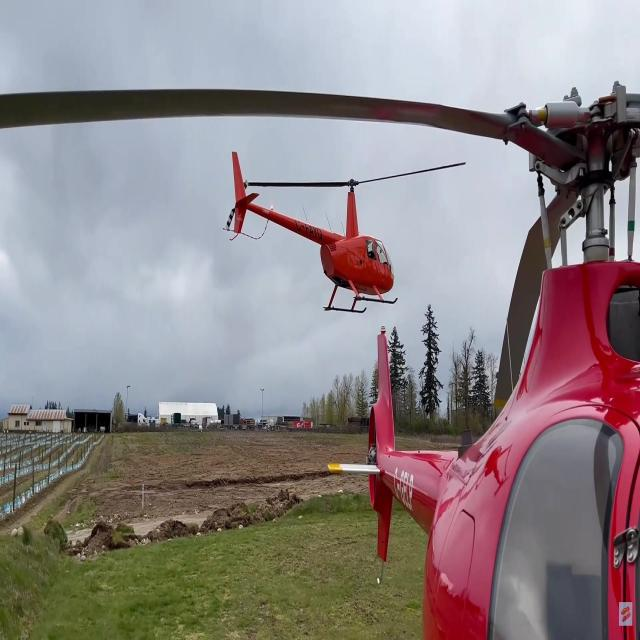CIV_HELO: (229, 145, 400, 314)
